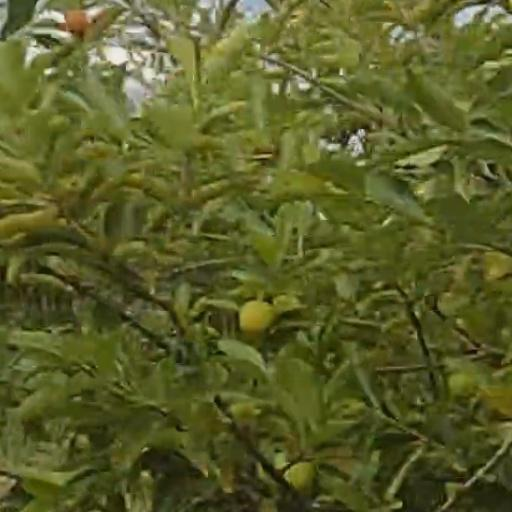acerola: (238, 300, 273, 334), (63, 10, 99, 36), (288, 462, 318, 489)
